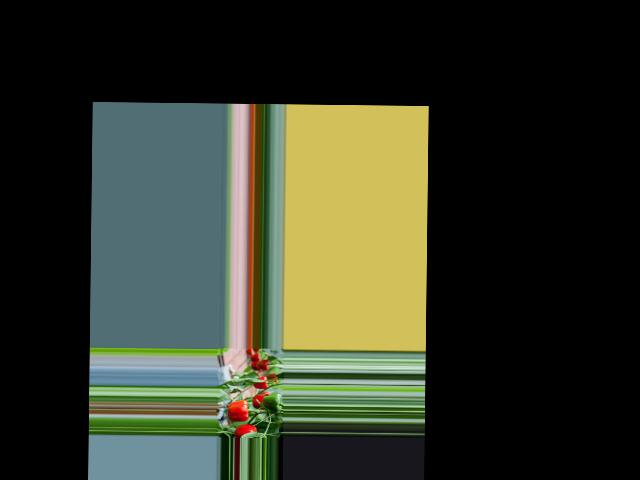bell_pepper: (249, 375, 271, 389)
